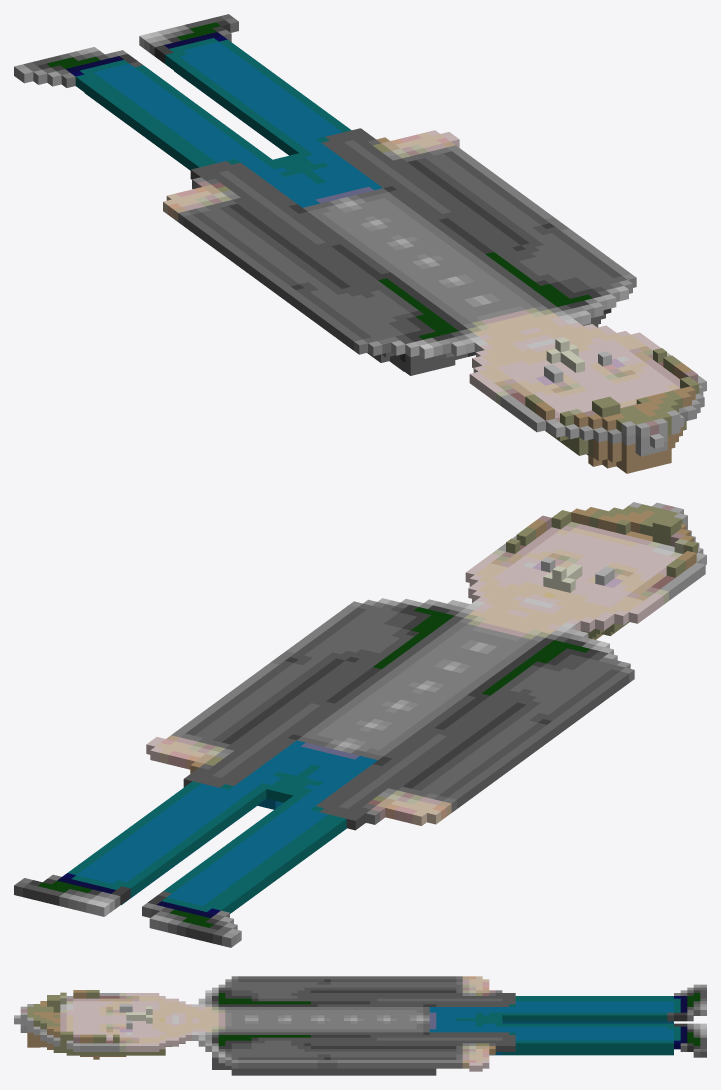
Rendered from BLawPixelPerson.glb.
The picture shows the model from 3 angles, top to bottom: view 1: azimuth 30°, elevation 25°; view 2: azimuth 150°, elevation 25°; view 3: azimuth 270°, elevation 25°; orthographic projection. The views are drawn at different scales.
Bounding box in the file's own units: 3.2 × 0.8 × 10.5.
